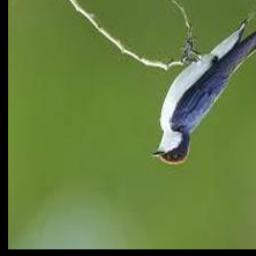Swallow: (150, 16, 256, 164)
